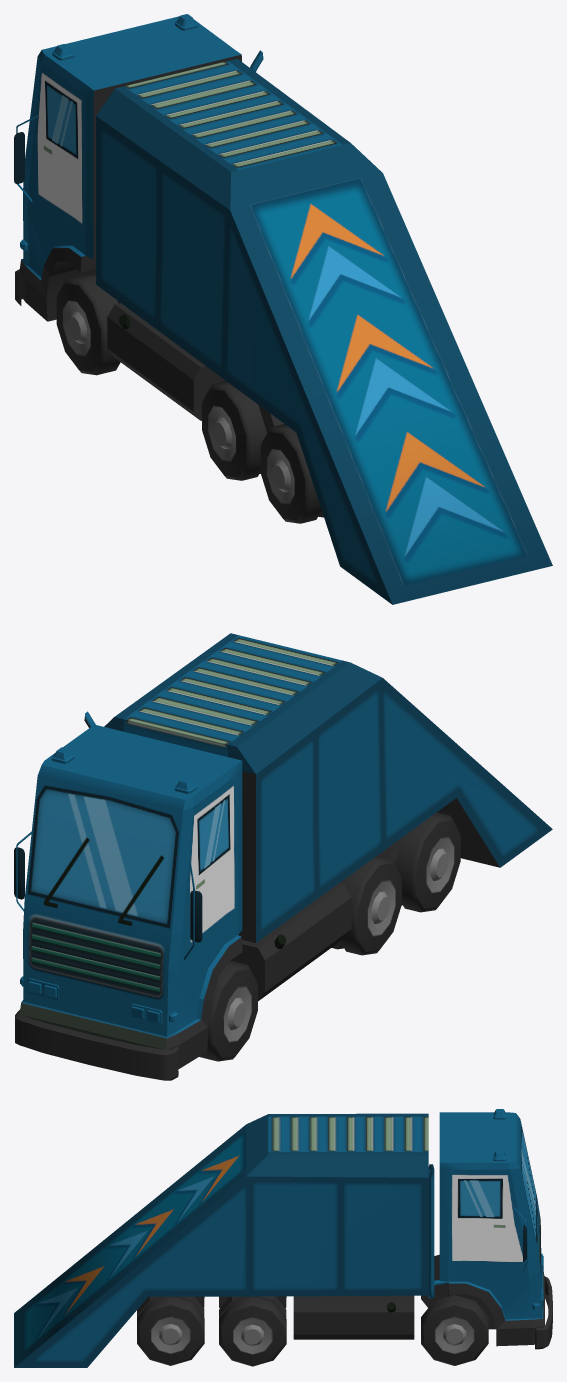
File: RampTruck01.fbx
The picture shows the model from 3 angles, top to bottom: view 1: azimuth 30°, elevation 25°; view 2: azimuth 150°, elevation 25°; view 3: azimuth 270°, elevation 25°; orthographic projection. The views are drawn at different scales.
Parts seen in each view (by area): view 1: O_garbage_truck; view 2: O_garbage_truck; view 3: O_garbage_truck.
Boxes of the visible parts, x1,y1,x2,y2 form: O_garbage_truck: [14, 14, 552, 604]; O_garbage_truck: [14, 633, 552, 1080]; O_garbage_truck: [14, 1109, 552, 1367].
Bounding box in the file's own units: 472 × 720 × 1682.
